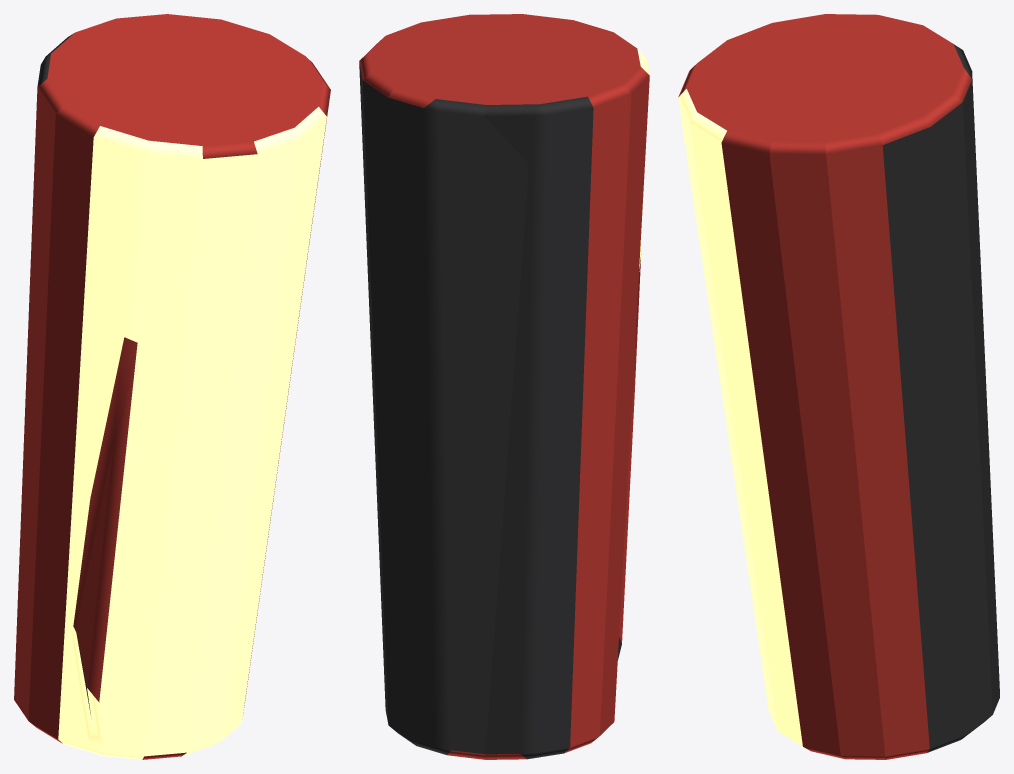
Rendered from SM_SB_Armor_calf_r.fbx.
3 views of the same model, side by side, from view 1: azimuth 30°, elevation 25°; view 2: azimuth 150°, elevation 25°; view 3: azimuth 270°, elevation 25° (orthographic).
Parts seen in each view (by area): view 1: SM_SB_Armor_calf_r; view 2: SM_SB_Armor_calf_r; view 3: SM_SB_Armor_calf_r.
Boxes of the visible parts, x1,y1,x2,y2 form: SM_SB_Armor_calf_r: (14,14,330,759); SM_SB_Armor_calf_r: (359,14,649,759); SM_SB_Armor_calf_r: (678,14,999,759).
Bounding box in the file's own units: 15.44 × 16.75 × 38.28.
